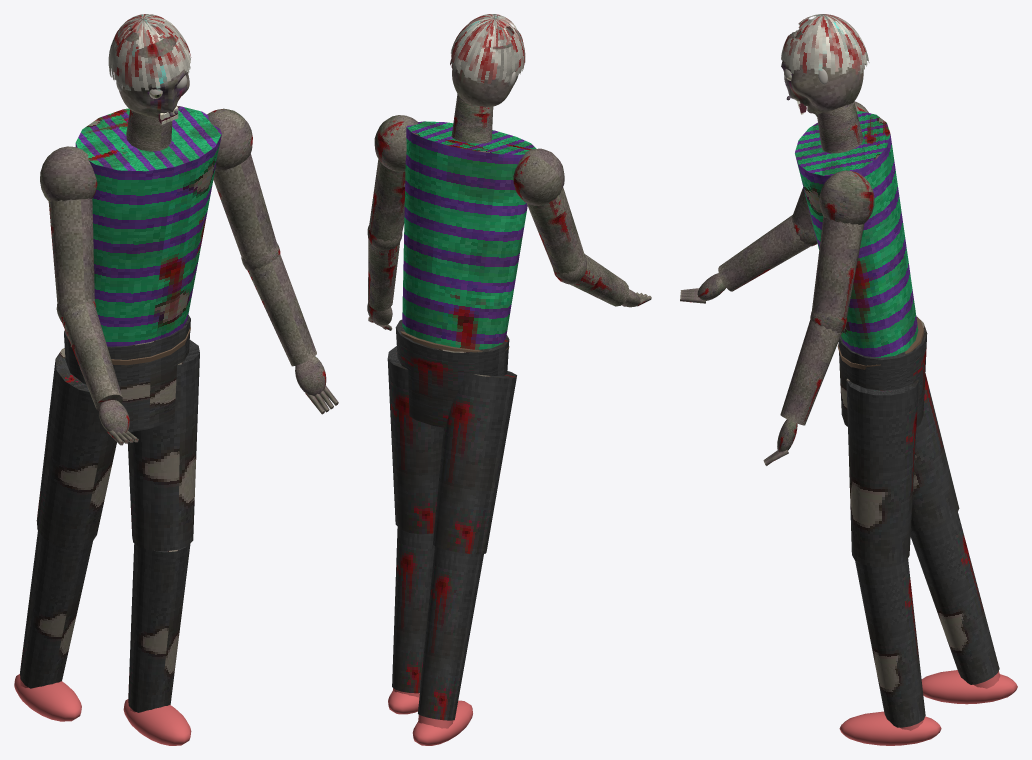
File: Zombie_041.glb
The picture shows the model from 3 angles, left to right: view 1: azimuth 30°, elevation 25°; view 2: azimuth 150°, elevation 25°; view 3: azimuth 270°, elevation 25°; orthographic projection. The views are drawn at different scales.
Visible parts, largest first — view 1: Zombie_041, object 43, object 10, object 3, object 16, object 11, object 4, object 42; view 2: Zombie_041, object 43, object 10, object 16, object 3; view 3: Zombie_041, object 43, object 10, object 3, object 16.
Part boxes in pixels (bbox=[...]): Zombie_041: bbox=[14, 106, 277, 745]; object 43: bbox=[108, 14, 191, 88]; object 10: bbox=[247, 254, 316, 366]; object 3: bbox=[61, 303, 122, 410]; object 16: bbox=[118, 25, 189, 118]; object 11: bbox=[295, 356, 326, 395]; object 4: bbox=[99, 400, 129, 433]; object 42: bbox=[111, 21, 189, 91]; Zombie_041: bbox=[368, 94, 584, 745]; object 43: bbox=[450, 14, 525, 81]; object 10: bbox=[368, 239, 399, 311]; object 16: bbox=[452, 26, 517, 107]; object 3: bbox=[570, 254, 629, 306]; Zombie_041: bbox=[792, 101, 1017, 745]; object 43: bbox=[781, 14, 869, 70]; object 10: bbox=[780, 319, 841, 425]; object 3: bbox=[718, 215, 810, 291]; object 16: bbox=[781, 31, 863, 116].
Bounding box in the file's own units: 0.7306 × 1.99 × 0.8626.
Materials: 16 (6 with a texture image).
